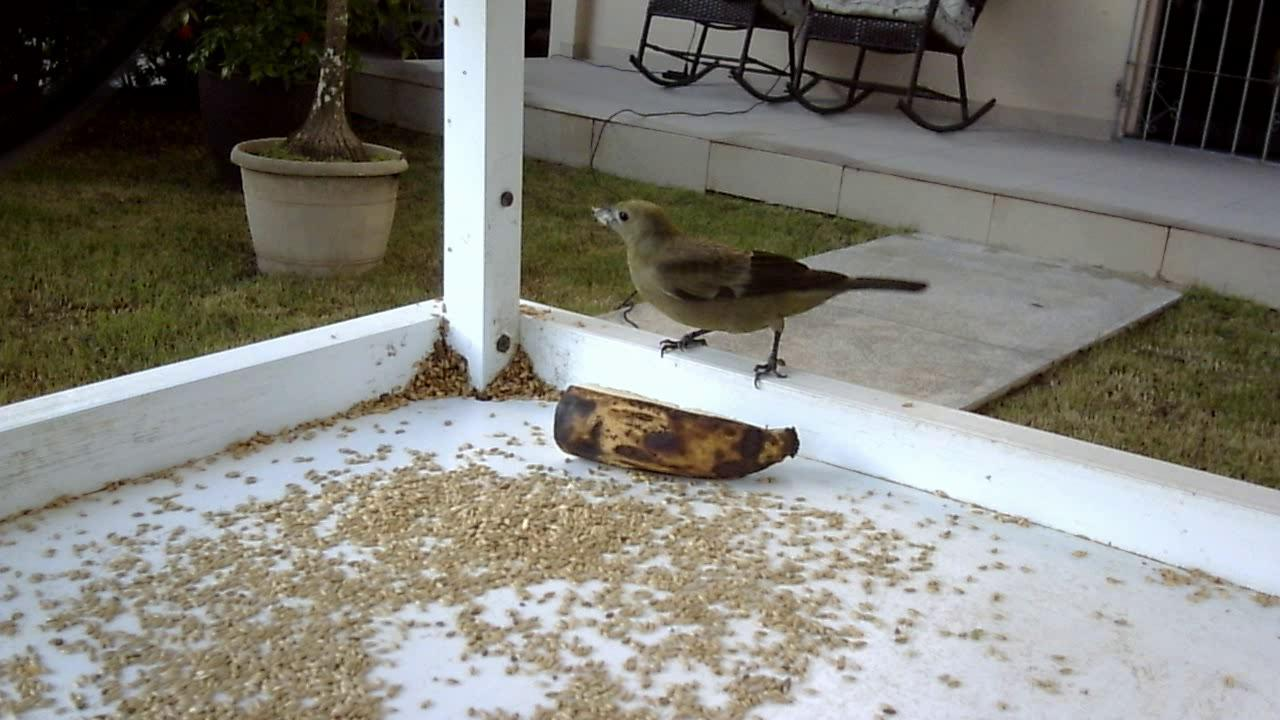sanhaco_do_coqueiro: (583, 195, 933, 392)
